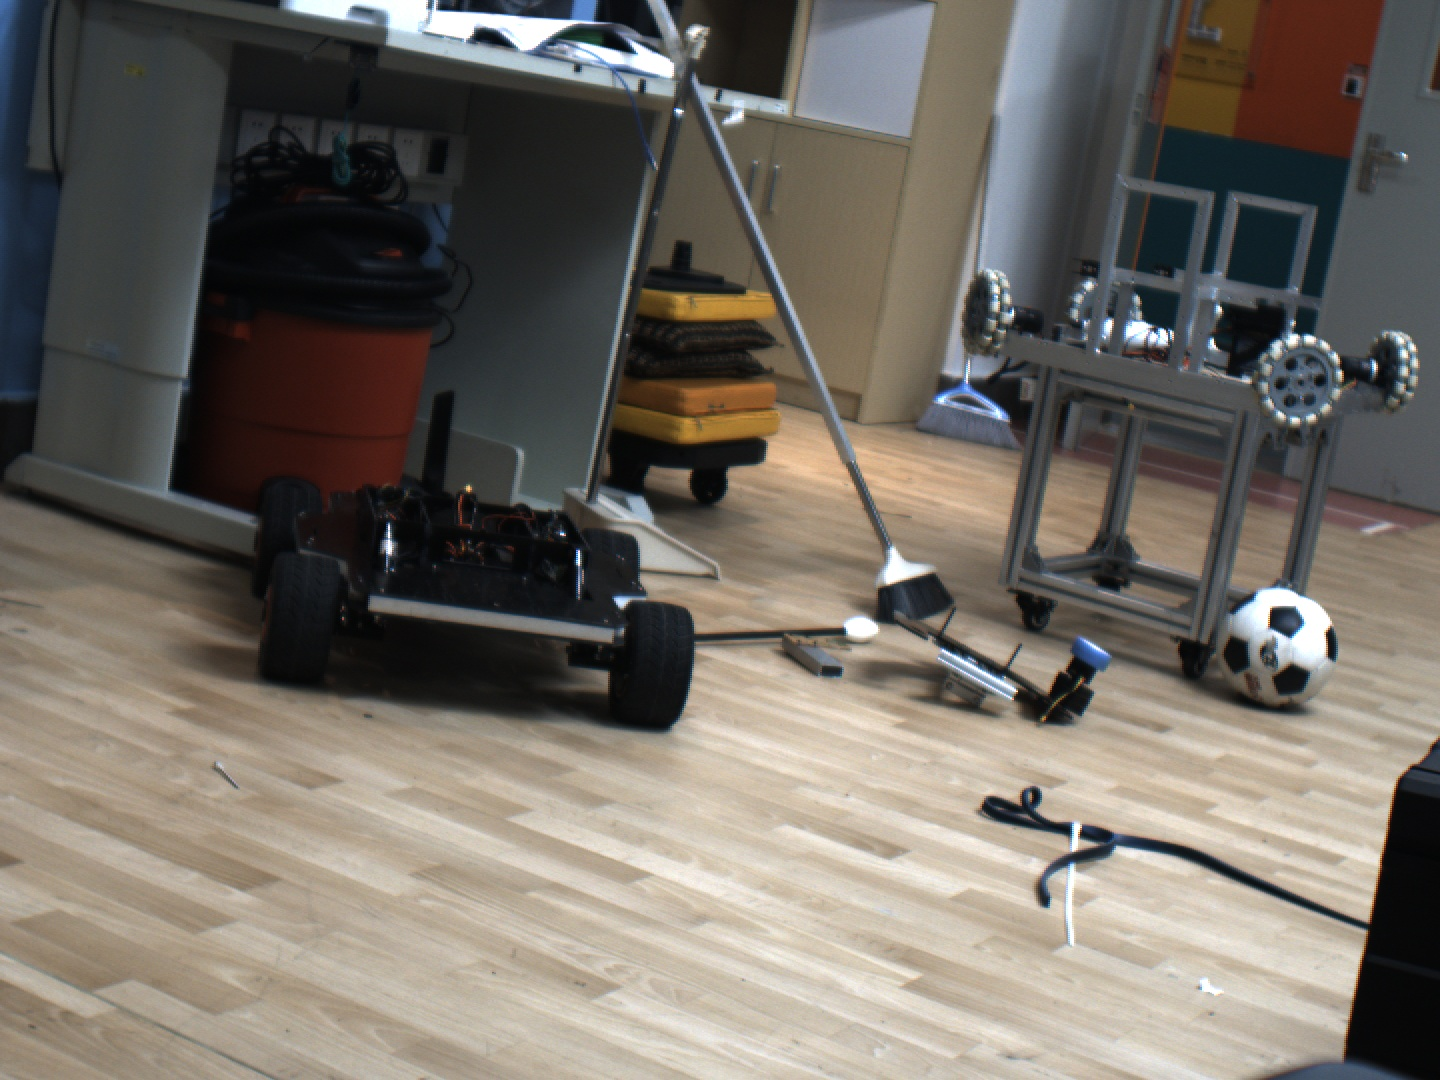ball: (1208, 580, 1358, 719)
